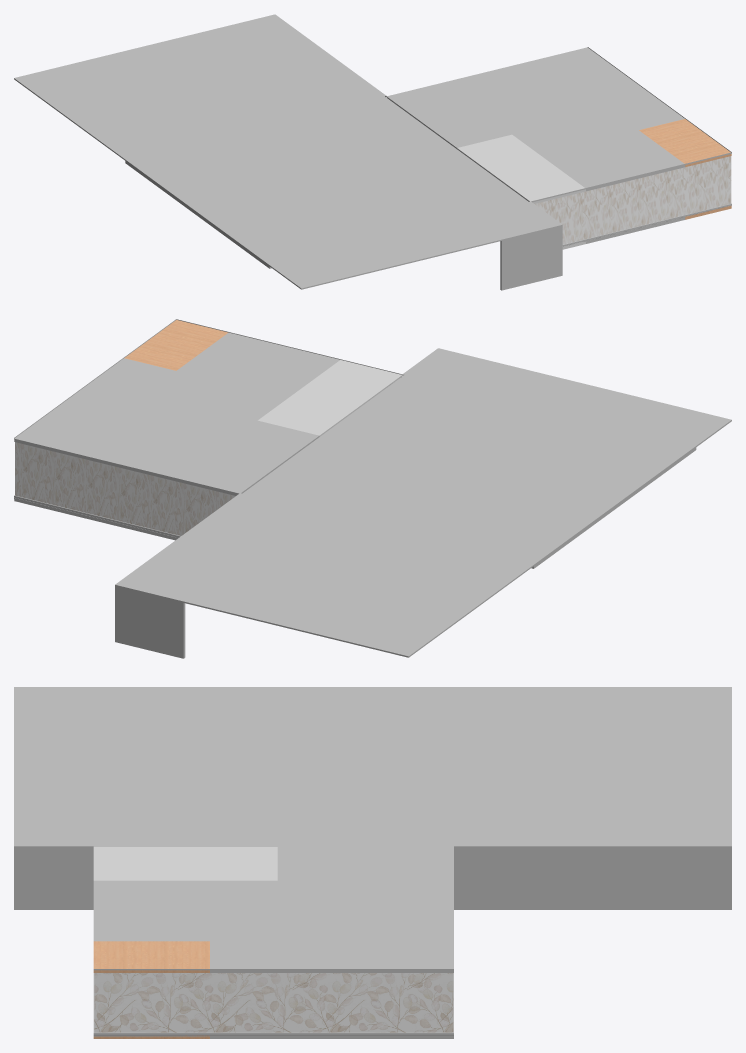
The model's file is mapa mapa.fbx.
3 renders of one model, top to bottom at view 1: azimuth 30°, elevation 25°; view 2: azimuth 150°, elevation 25°; view 3: azimuth 270°, elevation 25°, orthographic. The views are drawn at different scales.
Parts seen in each view (by area): view 1: teto.001, parede, teto_sala.001, teto_escritorio.001, teto_quarto.001, teto_trancado.001, teto_cozinha.001, teto_banheiro.001, teto_corredor.001, rodape; view 2: teto.001, parede, teto_sala.001, teto_escritorio.001, teto_quarto.001, teto_trancado.001, teto_cozinha.001, teto_corredor.001, teto_banheiro.001; view 3: teto.001, parede, teto_sala.001, teto_escritorio.001, teto_quarto.001, teto_trancado.001, teto_cozinha.001, teto_banheiro.001, teto_corredor.001, rodape.
Boxes of the visible parts, box(x1,y1,x2,y2) form: teto.001: box(14, 14, 731, 290); parede: box(535, 156, 731, 244); teto_sala.001: box(442, 47, 631, 115); teto_escritorio.001: box(529, 80, 684, 143); teto_quarto.001: box(539, 130, 685, 191); teto_trancado.001: box(457, 134, 585, 203); teto_cozinha.001: box(386, 83, 511, 148); teto_banheiro.001: box(639, 119, 731, 166); teto_corredor.001: box(486, 105, 581, 154); rodape: box(562, 203, 731, 246); teto.001: box(14, 319, 731, 658); parede: box(15, 442, 235, 535); teto_sala.001: box(14, 401, 228, 481); teto_escritorio.001: box(65, 358, 239, 429); teto_quarto.001: box(176, 332, 339, 397); teto_trancado.001: box(258, 360, 402, 436); teto_cozinha.001: box(178, 420, 319, 495); teto_corredor.001: box(181, 386, 287, 441); teto_banheiro.001: box(124, 320, 228, 370); teto.001: box(14, 687, 731, 970); parede: box(94, 973, 453, 1032); teto_sala.001: box(342, 880, 453, 972); teto_escritorio.001: box(210, 906, 341, 972); teto_quarto.001: box(93, 880, 209, 941); teto_trancado.001: box(93, 847, 277, 880); teto_cozinha.001: box(277, 847, 453, 880); teto_banheiro.001: box(93, 941, 209, 972); teto_corredor.001: box(210, 880, 341, 906); rodape: box(93, 973, 453, 1035).
Bounding box in the file's own units: 12992 × 1507 × 13993.
